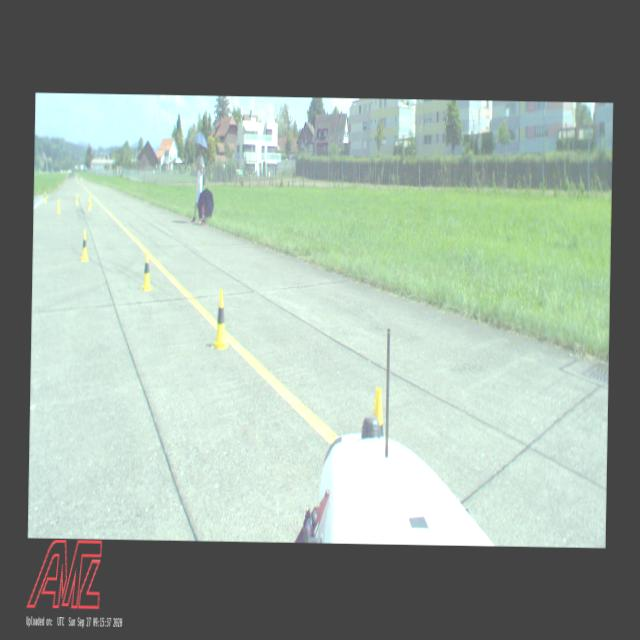yellow_cone: (212, 290, 229, 350), (372, 388, 383, 436), (142, 252, 152, 290), (80, 230, 88, 260), (56, 198, 60, 212), (88, 197, 91, 210), (44, 190, 46, 201), (76, 193, 78, 204)
